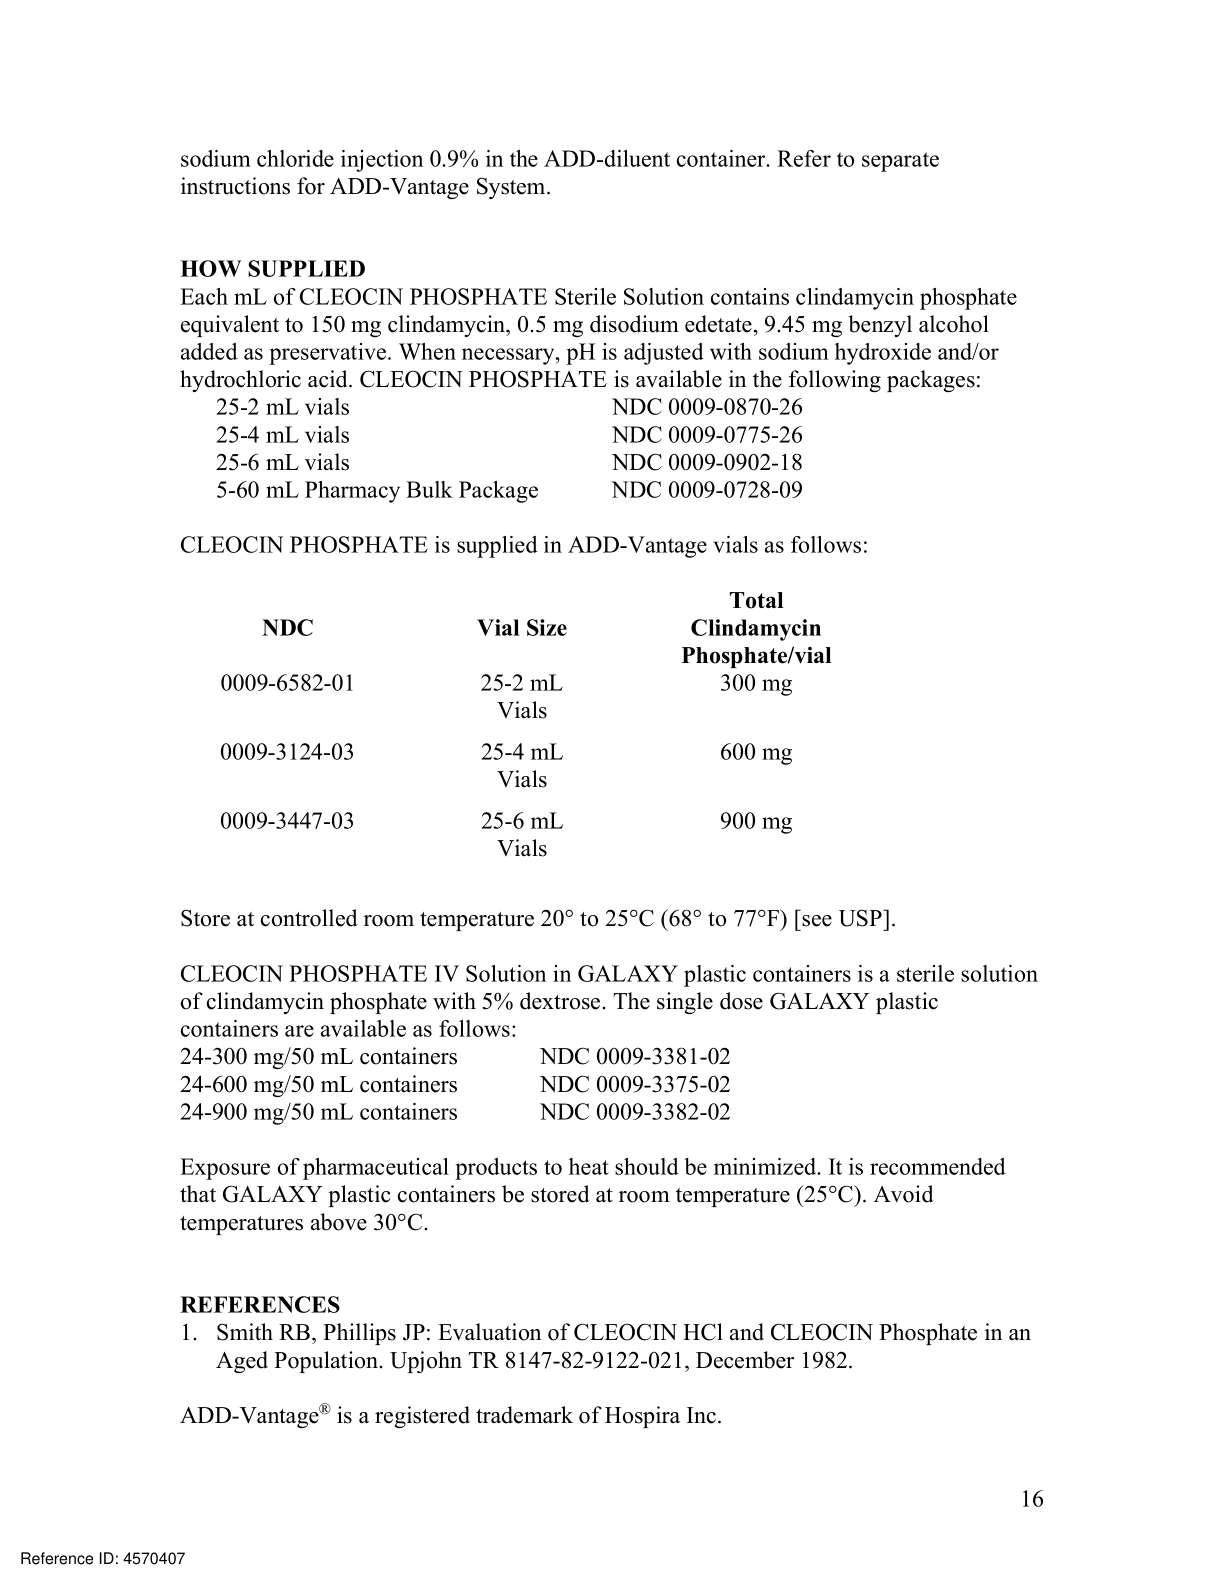nolines: (216, 588, 834, 860), (213, 395, 806, 503), (177, 1044, 734, 1122)
